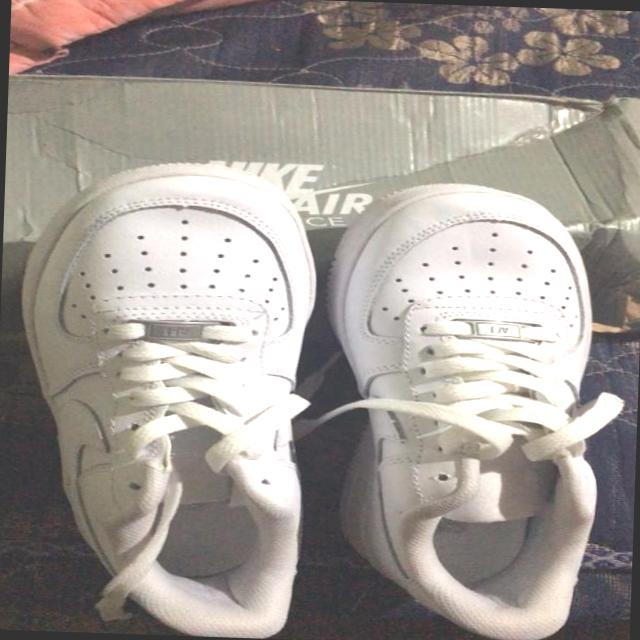nike_fake_airforce: (0, 155, 339, 640), (316, 172, 640, 640)
